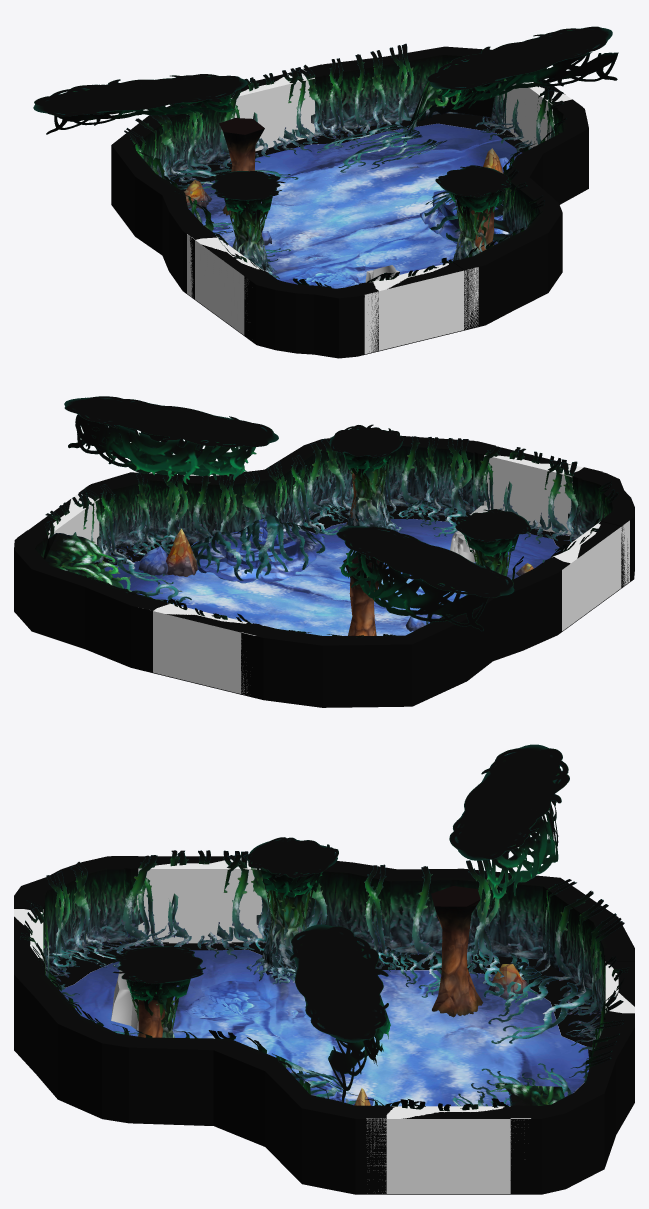
File: Dungeon_012_BossRoom.fbx
3 views of the same model, one above another, from view 1: azimuth 30°, elevation 25°; view 2: azimuth 150°, elevation 25°; view 3: azimuth 270°, elevation 25° (orthographic). The views are drawn at different scales.
Parts seen in each view (by area): view 1: Dun_021_Room_003_wall, Dun_021_Room_003_ground, Dungeon_021_Object_025, DoorWay_NavMask (1) (×2), Dungeon_021_Object_021, DoorWay_NavMask (×2), un_021_Door_002_Object1 (×2), Dungeon_021_Object_024, un_021_Door_002 (×3), Dungeon_021_Object_010, Dungeon_021_Object_012, Dungeon_011_Object_010 (×2) (+7 smaller); view 2: Dun_021_Room_003_wall, Dungeon_021_Object_025, Dun_021_Room_003_ground, Dungeon_021_Object_021, DoorWay_NavMask (1) (×2), DoorWay_NavMask (×3), un_021_Door_002 (×4), un_021_Door_002_Object1 (×2), Dungeon_021_Object_015, Dungeon_021_Object_016, Dungeon_021_Object_024, Dungeon_021_Object_012 (+9 smaller); view 3: Dun_021_Room_003_wall, Dun_021_Room_003_ground, Dungeon_021_Object_025, Dungeon_021_Object_021, DoorWay_NavMask (1), DoorWay_NavMask (×2), un_021_Door_002_Object1 (×3), un_021_Door_002 (×4), Dungeon_011_Object_010 (×2), Dungeon_021_Object_022, Dun_011_Room_003_shadow, Dungeon_021_Object_012 (+8 smaller).
Boxes of the visible parts, box(x1,y1,x2,y2) form: Dun_021_Room_003_wall: box(111, 46, 588, 358); Dun_021_Room_003_ground: box(188, 123, 521, 288); Dungeon_021_Object_025: box(33, 26, 618, 134); DoorWay_NavMask (1) (×2): box(187, 234, 478, 354); Dungeon_021_Object_021: box(124, 43, 566, 287); DoorWay_NavMask (×2): box(230, 69, 571, 151); un_021_Door_002_Object1 (×2): box(219, 64, 563, 168); Dungeon_021_Object_024: box(317, 81, 498, 172); un_021_Door_002 (×3): box(185, 64, 482, 351); Dungeon_021_Object_010: box(435, 165, 511, 213); Dungeon_021_Object_012: box(211, 171, 285, 215); Dungeon_011_Object_010 (×2): box(219, 118, 503, 252); Dun_021_Room_003_wall: box(14, 435, 634, 707); Dungeon_021_Object_025: box(64, 396, 514, 631); Dun_021_Room_003_ground: box(104, 518, 560, 635); Dungeon_021_Object_021: box(72, 436, 618, 637); DoorWay_NavMask (1) (×2): box(153, 520, 629, 694); DoorWay_NavMask (×3): box(48, 455, 582, 623); un_021_Door_002 (×4): box(17, 441, 631, 694); un_021_Door_002_Object1 (×2): box(44, 446, 582, 562); Dungeon_021_Object_015: box(191, 519, 325, 583); Dungeon_021_Object_016: box(190, 514, 325, 580); Dungeon_021_Object_024: box(43, 532, 191, 603); Dungeon_021_Object_012: box(455, 509, 531, 558); Dun_021_Room_003_wall: box(14, 856, 634, 1194); Dun_021_Room_003_ground: box(59, 950, 588, 1106); Dungeon_021_Object_025: box(289, 744, 569, 1103); Dungeon_021_Object_021: box(38, 860, 624, 1105); DoorWay_NavMask (1): box(366, 1110, 530, 1193); DoorWay_NavMask (×2): box(138, 859, 634, 1013); un_021_Door_002_Object1 (×3): box(20, 850, 628, 1082); un_021_Door_002 (×4): box(14, 856, 634, 1194); Dungeon_011_Object_010 (×2): box(132, 886, 483, 1037); Dungeon_021_Object_022: box(49, 929, 591, 1043); Dun_011_Room_003_shadow: box(49, 942, 600, 1092); Dungeon_021_Object_012: box(246, 837, 338, 901).
Size of what is drawn, in the model's own units: 18.45 by 4.55 by 15.
